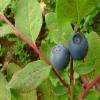Blueberry leaf: (6, 58, 52, 91), (14, 0, 45, 47), (43, 11, 73, 44)
